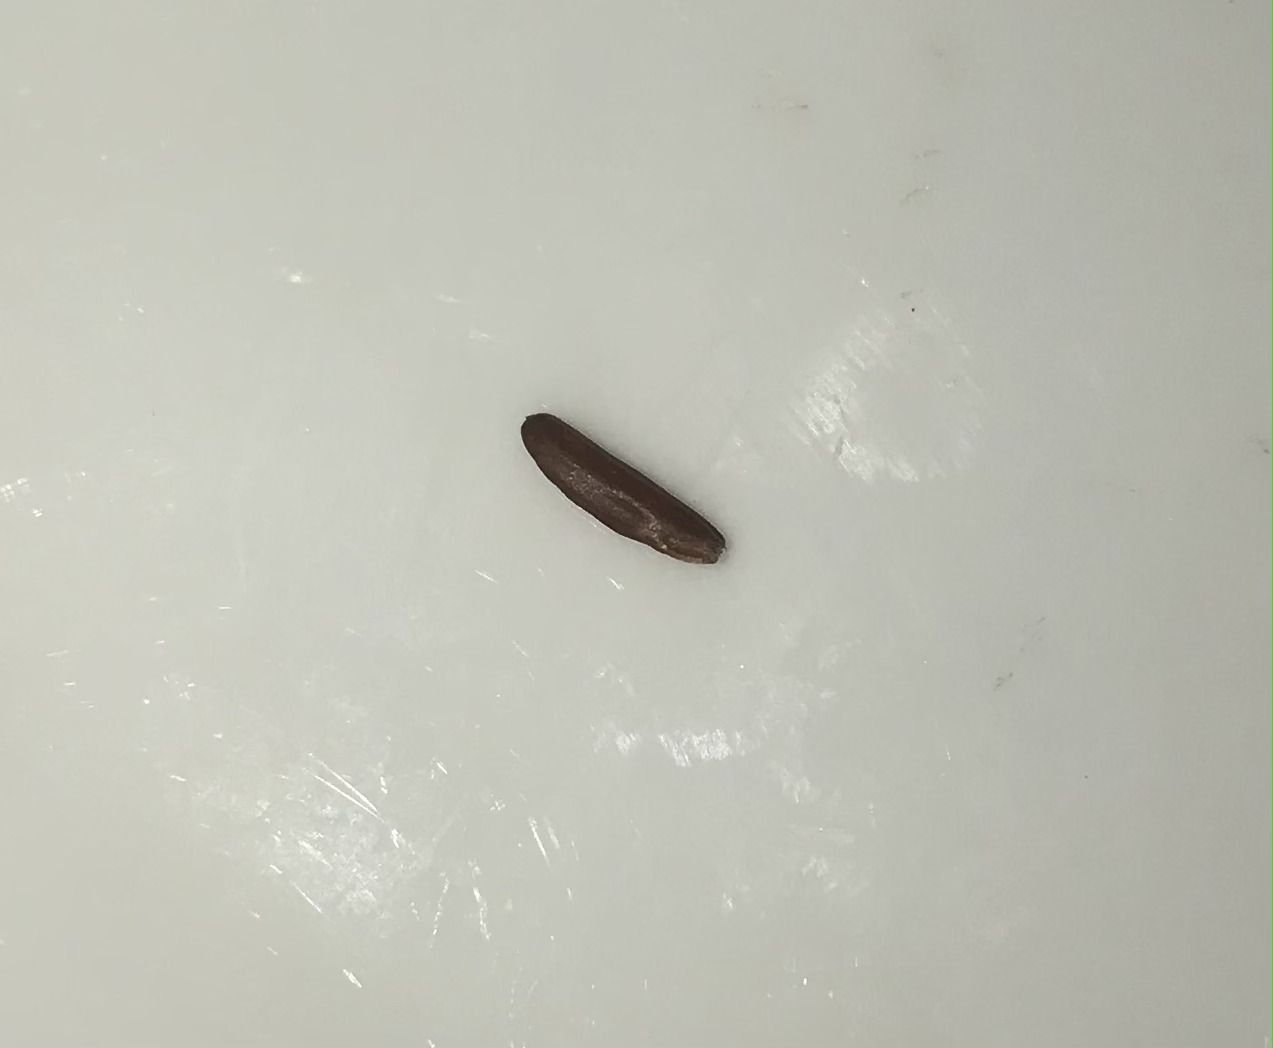Gao Huyet Rong: (518, 406, 732, 577)
